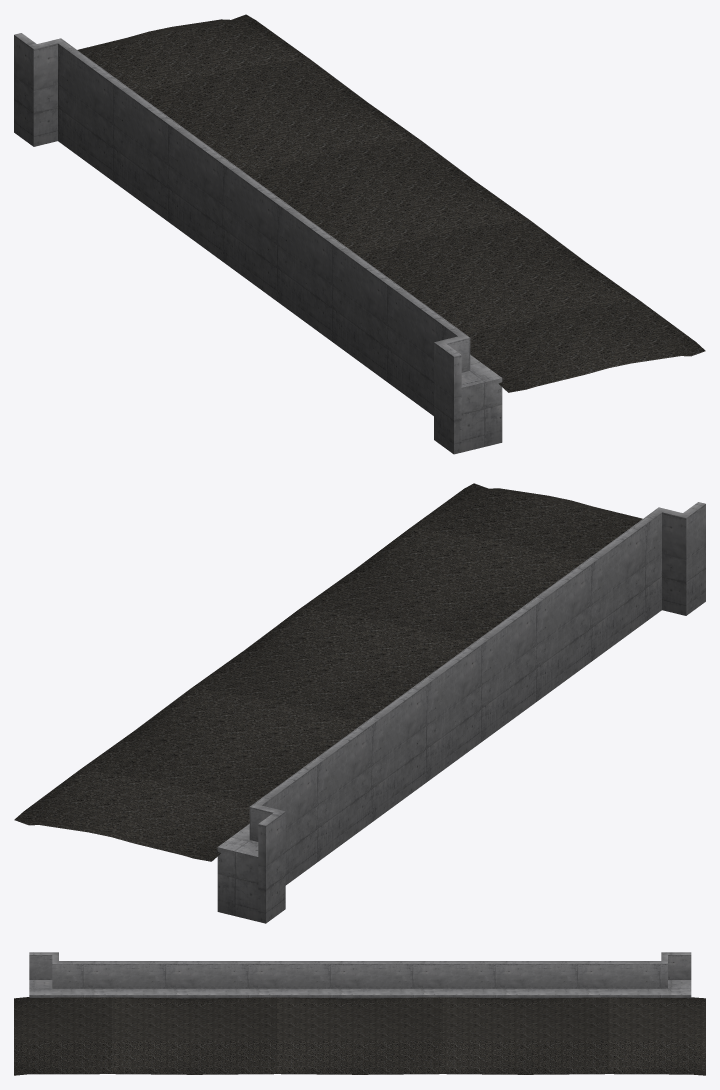
File: KH_KOUKA_R100.glb
3 renders of one model, top to bottom at view 1: azimuth 30°, elevation 25°; view 2: azimuth 150°, elevation 25°; view 3: azimuth 270°, elevation 25°, orthographic. The views are drawn at different scales.
Parts seen in each view (by area): view 1: Right; view 2: Right; view 3: Right.
Boxes of the visible parts, x1,y1,x2,y2 form: Right: [14, 14, 705, 454]; Right: [14, 483, 705, 923]; Right: [14, 952, 705, 1075].
Bounding box in the file's own units: 31.76 × 12.26 × 105.
Materials: 2 (2 with a texture image).
